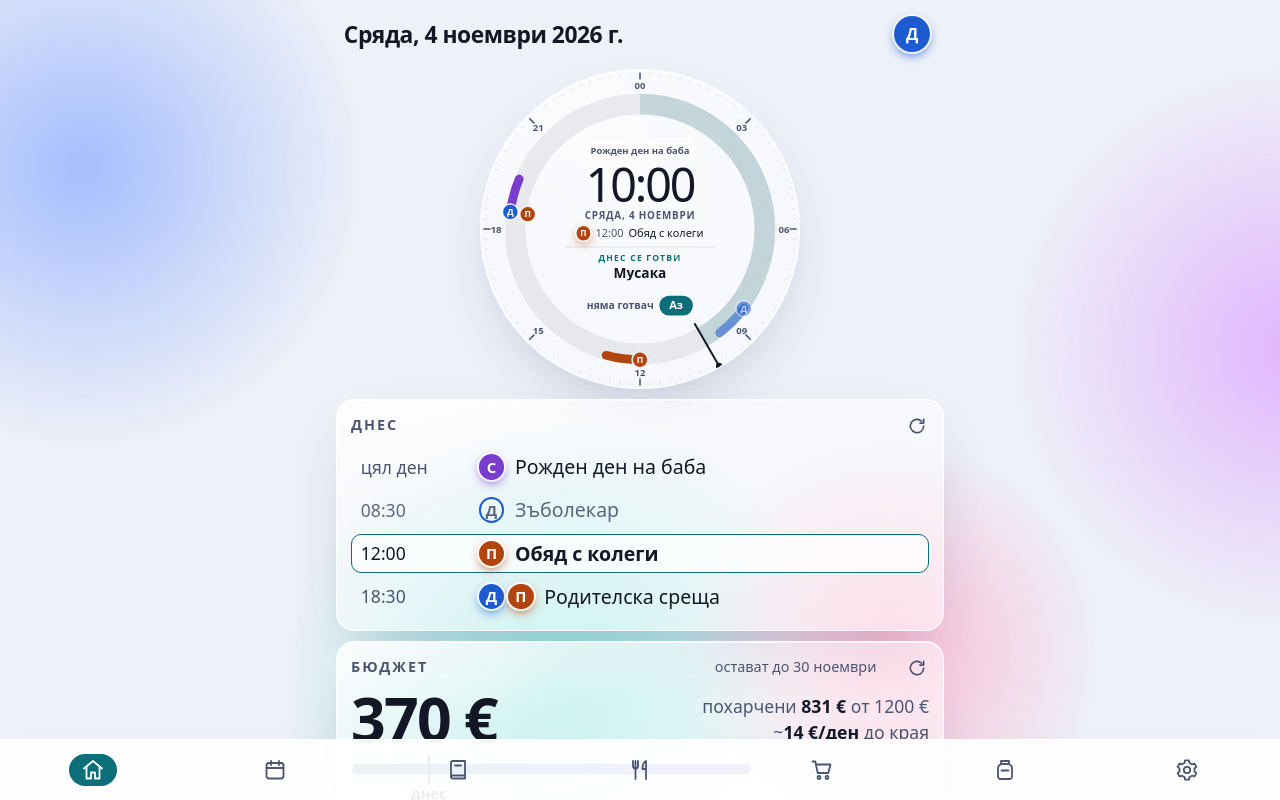
Scenario: DashboardScreen › „Днес се готви“ › без готвач: „няма готвач“ и „Аз“ праща cook-claim и показва „готвиш ти“
The image size is (1280, 800).
Expected: the text "няма готвач" is shown, left=587, top=299, right=654, bottom=312
Click the button "Аз" at [676, 305], box left=659, top=295, right=693, bottom=316
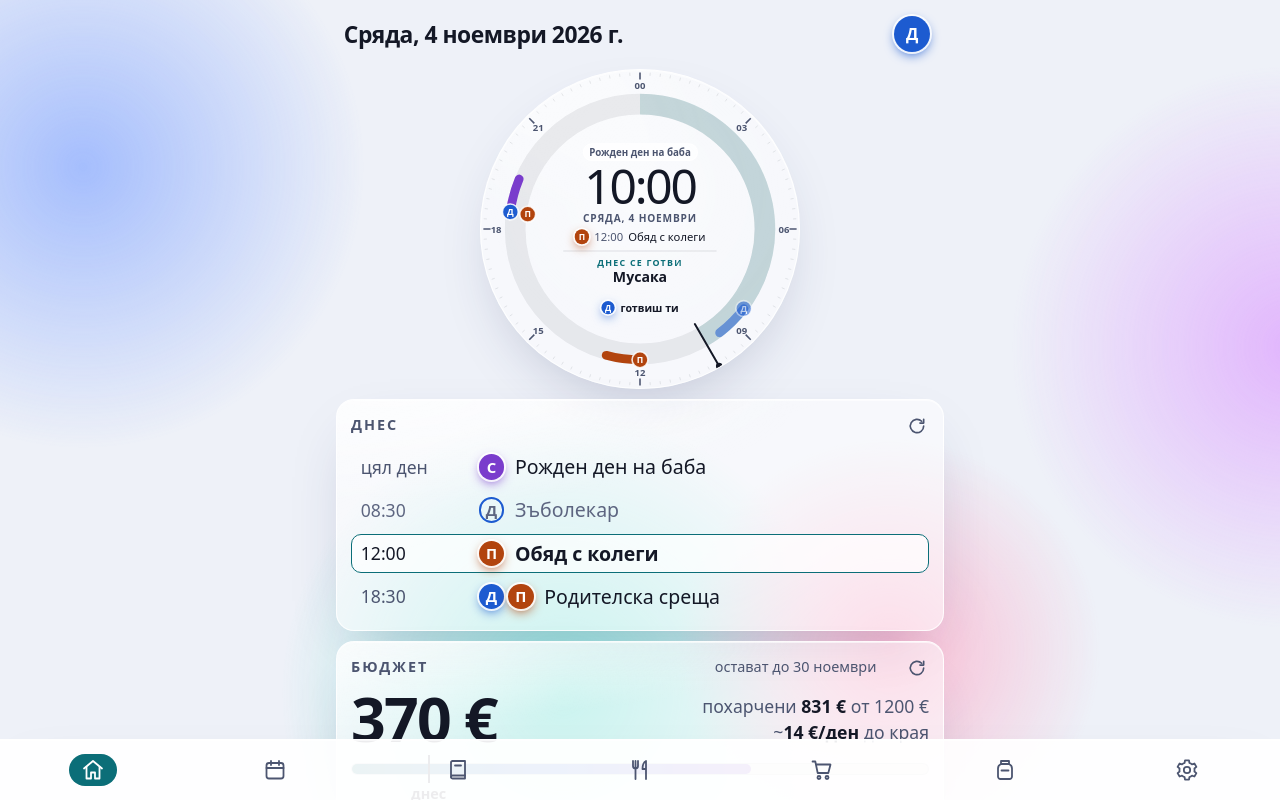
Expected: the text "готвиш ти" is shown, left=620, top=301, right=679, bottom=314
